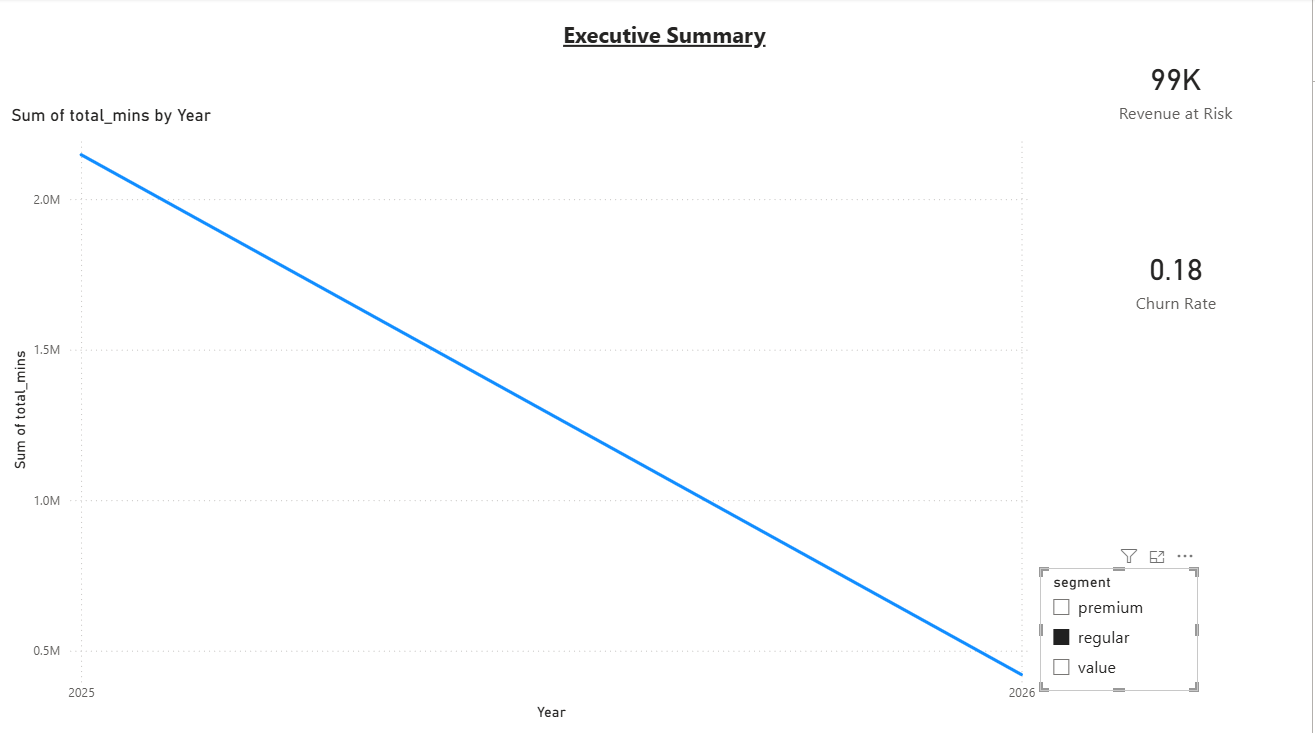

This screenshot's page, from the dashboard's own definition file:
{"tool":"powerbi","page":{"name":"Executive Summary","canvas":[1280,720],"ordinal":0},"visuals":[{"type":"card","fields":{"Values":["dim_users_enriched.Churn Rate"]},"box":[1015.4,184.8,264.6,175.1],"z":0},{"type":"card","fields":{"Values":["dim_users_enriched.Revenue at Risk"]},"box":[1014.5,0,265.5,175.1],"z":1000},{"type":"lineChart","fields":{"Category":["fact_user_weekly.week_start.Variation.Date Hierarchy.Year","fact_user_weekly.week_start.Variation.Date Hierarchy.Quarter","fact_user_weekly.week_start.Variation.Date Hierarchy.Month","fact_user_weekly.week_start.Variation.Date Hierarchy.Day"],"Y":["Sum(fact_user_weekly.total_mins)"]},"box":[9.7,104.1,1005.7,603],"z":2000},{"type":"slicer","fields":{"Values":["dim_users_enriched.segment"]},"box":[1015.4,554.4,153.7,119.6],"z":3000},{"type":"textbox","box":[546.6,15.6,545.7,54.5],"z":4000}]}

Visuals, with their boxes in screenshot pixels (x1, y1, x2, y2), scaled from the page's 1280x720 canvas onto the 1315x733 screenshot:
card - dim_users_enriched.Churn Rate: {"x1": 1043, "y1": 188, "x2": 1314, "y2": 366}
card - dim_users_enriched.Revenue at Risk: {"x1": 1042, "y1": 0, "x2": 1314, "y2": 178}
lineChart - fact_user_weekly.week_start.Variation.Date Hierarchy.Year x fact_user_weekly.week_start.Variation.Date Hierarchy.Quarter: {"x1": 10, "y1": 106, "x2": 1043, "y2": 720}
slicer - dim_users_enriched.segment: {"x1": 1043, "y1": 564, "x2": 1201, "y2": 686}
textbox: {"x1": 562, "y1": 16, "x2": 1122, "y2": 71}
